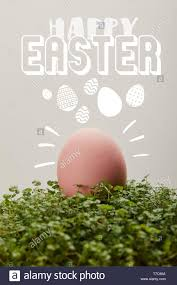egg: (58, 129, 128, 197)
